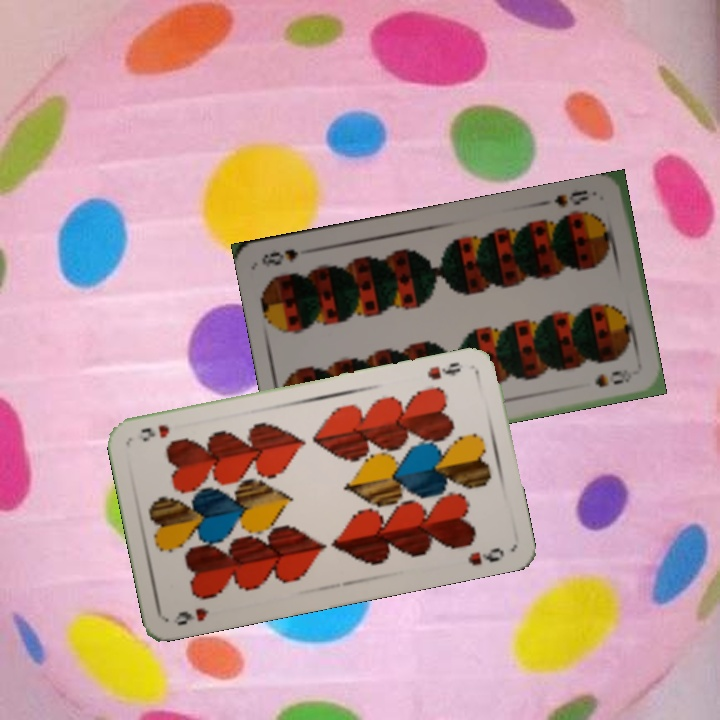H9: (169, 603, 211, 629), (423, 357, 463, 383)
S8: (550, 185, 592, 210)
